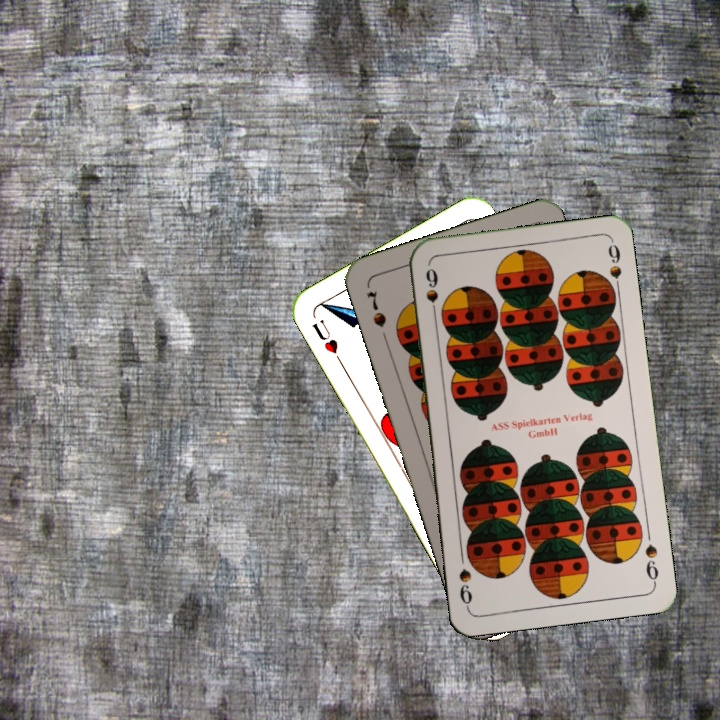HU: (308, 315, 345, 366)
S7: (362, 287, 389, 330)
S9: (421, 264, 441, 322), (641, 540, 661, 587)
